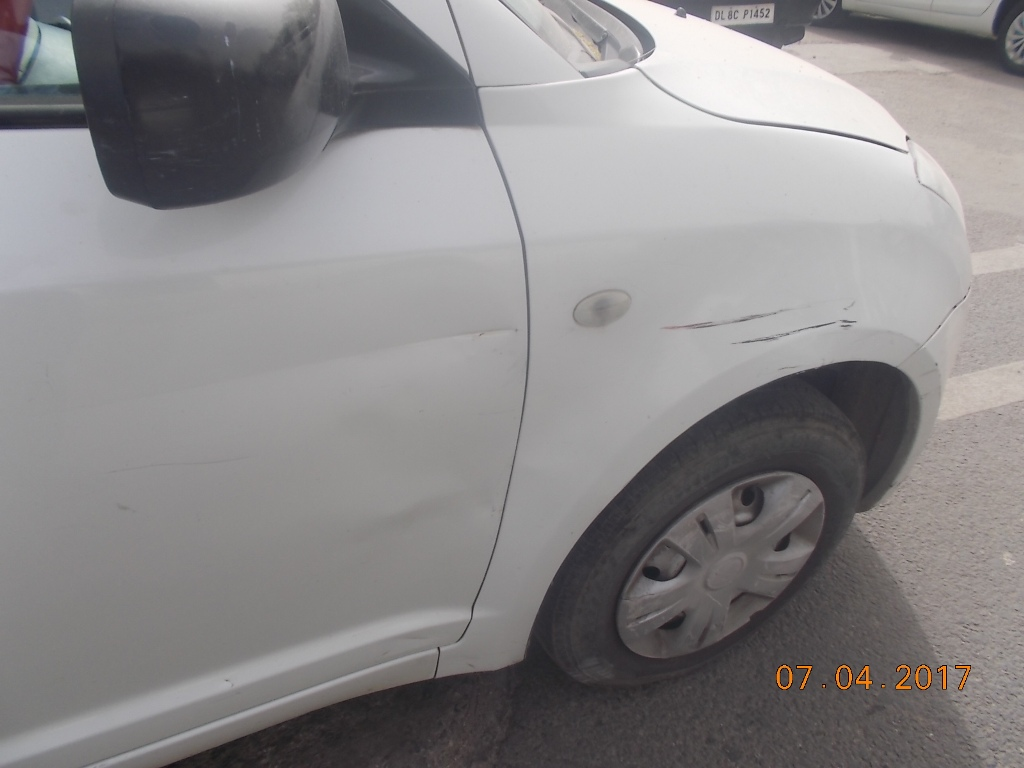Scratch_or_spot: (657, 299, 790, 347), (810, 310, 873, 343)
